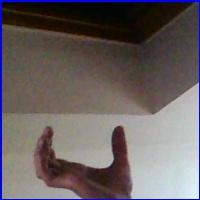space: (30, 122, 152, 198)
